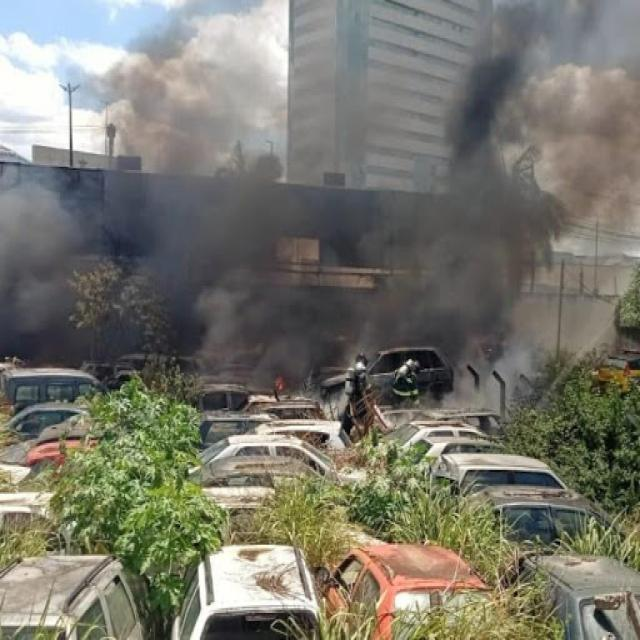Smoke: (19, 15, 607, 388)
